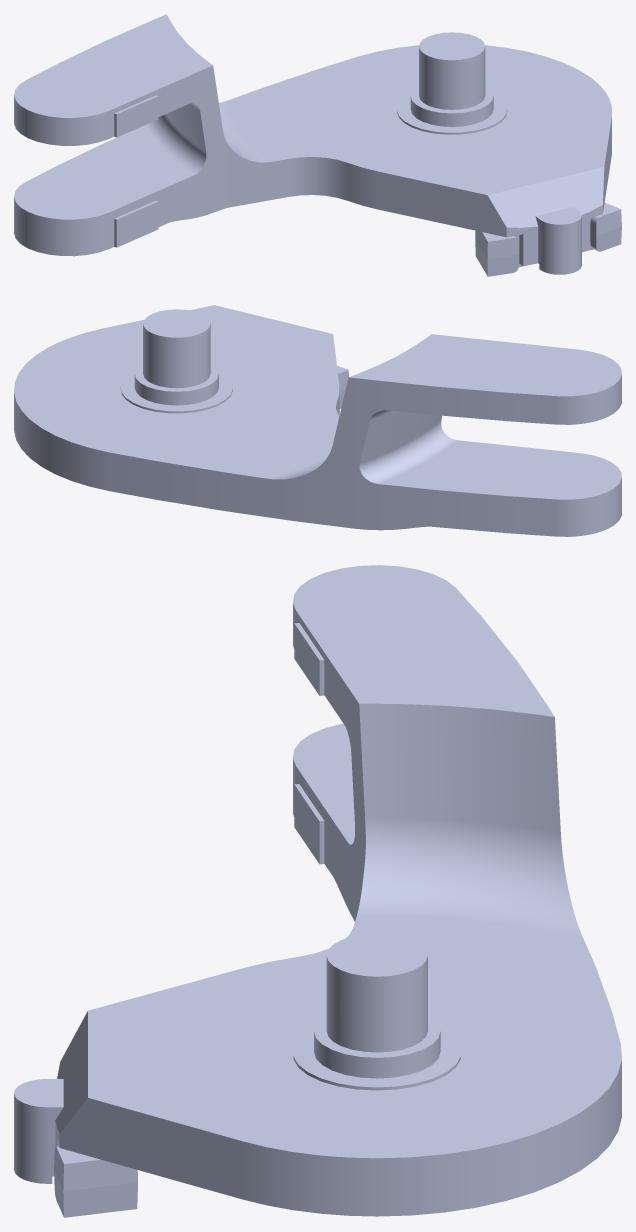
The model's file is IRB460_P_ARM.glb.
3 views of the same model, one above another, from view 1: azimuth 30°, elevation 25°; view 2: azimuth 150°, elevation 25°; view 3: azimuth 270°, elevation 25° (orthographic). The views are drawn at different scales.
Visible parts, largest first — view 1: IRB460_P_ARM; view 2: IRB460_P_ARM; view 3: IRB460_P_ARM.
Boxes of the visible parts, bbox=[...] form: IRB460_P_ARM: bbox=[14, 14, 621, 276]; IRB460_P_ARM: bbox=[14, 305, 621, 536]; IRB460_P_ARM: bbox=[14, 565, 621, 1217].
Bounding box in the file's own units: 0.595 × 0.187 × 0.3599.
